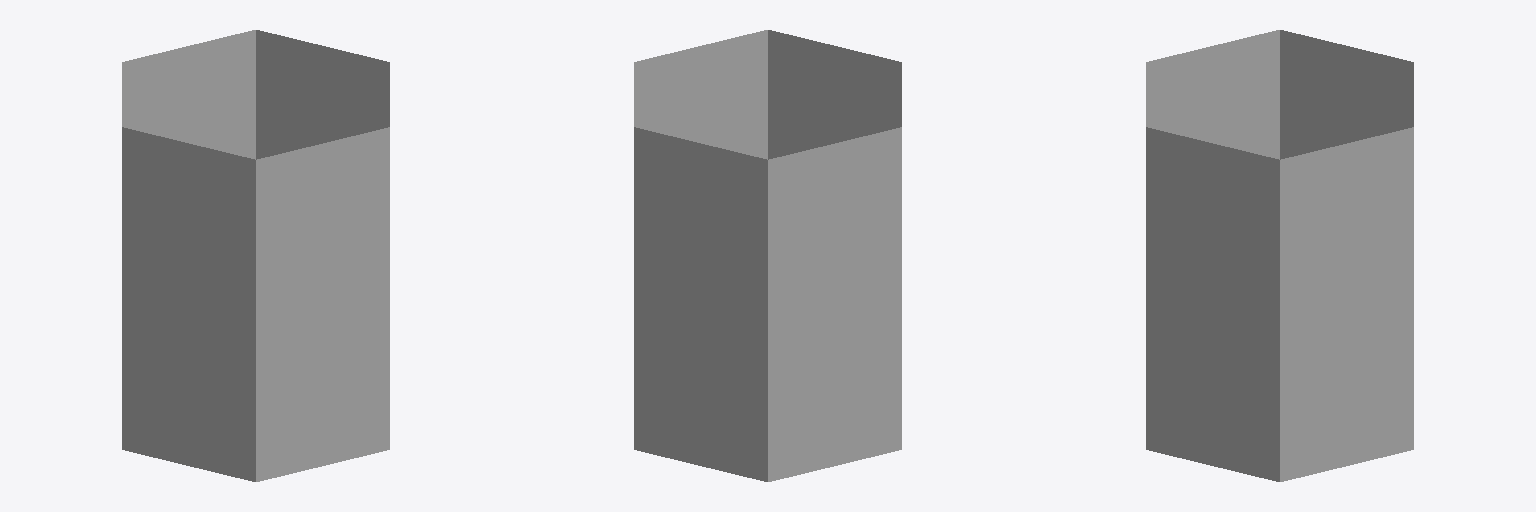
Rendered from housing.obj.
3 views of the same model, side by side, from view 1: azimuth 30°, elevation 25°; view 2: azimuth 150°, elevation 25°; view 3: azimuth 270°, elevation 25° (orthographic).
Parts seen in each view (by area): view 1: housing_Sphere.012; view 2: housing_Sphere.012; view 3: housing_Sphere.012.
Boxes of the visible parts, box(x1,y1,x2,y2) form: housing_Sphere.012: box(122, 30, 389, 481); housing_Sphere.012: box(634, 30, 901, 481); housing_Sphere.012: box(1146, 30, 1413, 481).
Bounding box in the file's own units: 0.6804 × 0.7857 × 0.5892.